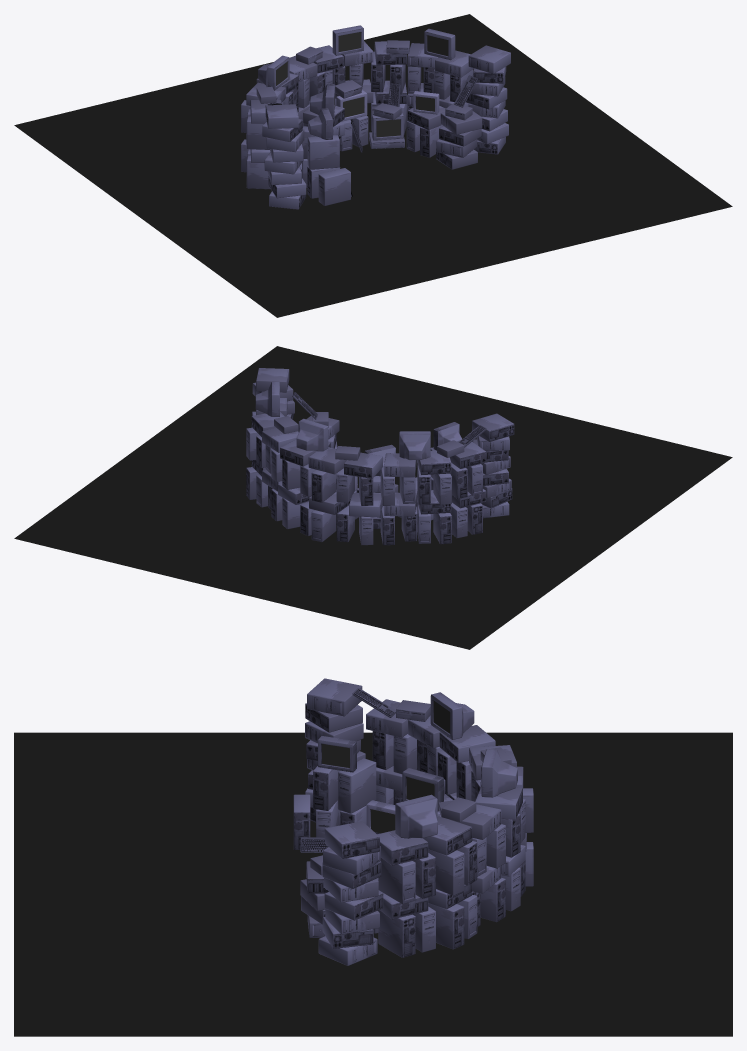
The model's file is computers.glb.
3 renders of one model, top to bottom at view 1: azimuth 30°, elevation 25°; view 2: azimuth 150°, elevation 25°; view 3: azimuth 270°, elevation 25°, orthographic. The views are drawn at different scales.
Visible parts, largest first — view 1: Plane, PC 01.011, PC 01.010, PC 02.026, Screen D.003, Screen D.004, PC 02.012, Screen D.002, Screen D.001, PC 01.052, Screen C.001, PC 01.007 (+14 smaller); view 2: Plane, Screen D.003, Screen D.002, PC 02.012, PC 01.032, PC 02.021, PC 02.016, PC 01.033, PC 01.031, PC 02.026, Screen D.004, PC 02.022 (+14 smaller); view 3: Plane, PC 01.005, Screen D.004, PC 02.026, PC 02.012, Screen D.002, PC 02.027, PC 02.032, Screen D.003, PC 01.052, Screen B.002, PC 01.047 (+36 smaller).
Boxes of the visible parts, x1,y1,x2,y2 form: Plane: (14, 14, 732, 317); PC 01.011: (318, 168, 350, 205); PC 01.010: (307, 135, 339, 169); PC 02.026: (468, 45, 510, 73); Screen D.003: (332, 25, 363, 55); Screen D.004: (424, 28, 455, 60); PC 02.012: (265, 104, 298, 128); Screen D.002: (258, 55, 289, 90); Screen D.001: (372, 113, 403, 140); PC 01.052: (435, 50, 473, 77); Screen C.001: (336, 90, 367, 121); PC 01.007: (440, 111, 482, 134); Plane: (14, 346, 732, 649); Screen D.003: (296, 418, 328, 451); Screen D.002: (399, 431, 430, 460); PC 02.012: (472, 413, 514, 441); PC 01.032: (344, 452, 382, 478); PC 02.021: (311, 470, 336, 502); PC 02.016: (311, 510, 336, 541); PC 01.033: (308, 447, 346, 474); PC 01.031: (384, 453, 416, 477); PC 02.026: (256, 368, 289, 392); Screen D.004: (255, 382, 279, 416); PC 02.022: (417, 450, 451, 474); Plane: (14, 732, 732, 1036); PC 01.005: (338, 758, 376, 813); Screen D.004: (395, 794, 437, 838); PC 02.026: (324, 821, 379, 858); PC 02.012: (307, 678, 362, 716); Screen D.002: (430, 692, 474, 739); PC 02.027: (378, 910, 415, 957); PC 02.032: (378, 857, 415, 904); Screen D.003: (481, 749, 517, 797); PC 01.052: (377, 830, 428, 865); Screen B.002: (318, 736, 356, 772); PC 01.047: (428, 849, 464, 895).
Size of the model in its own units: 26 by 5.52 by 26.
3 materials, 1 textured.
